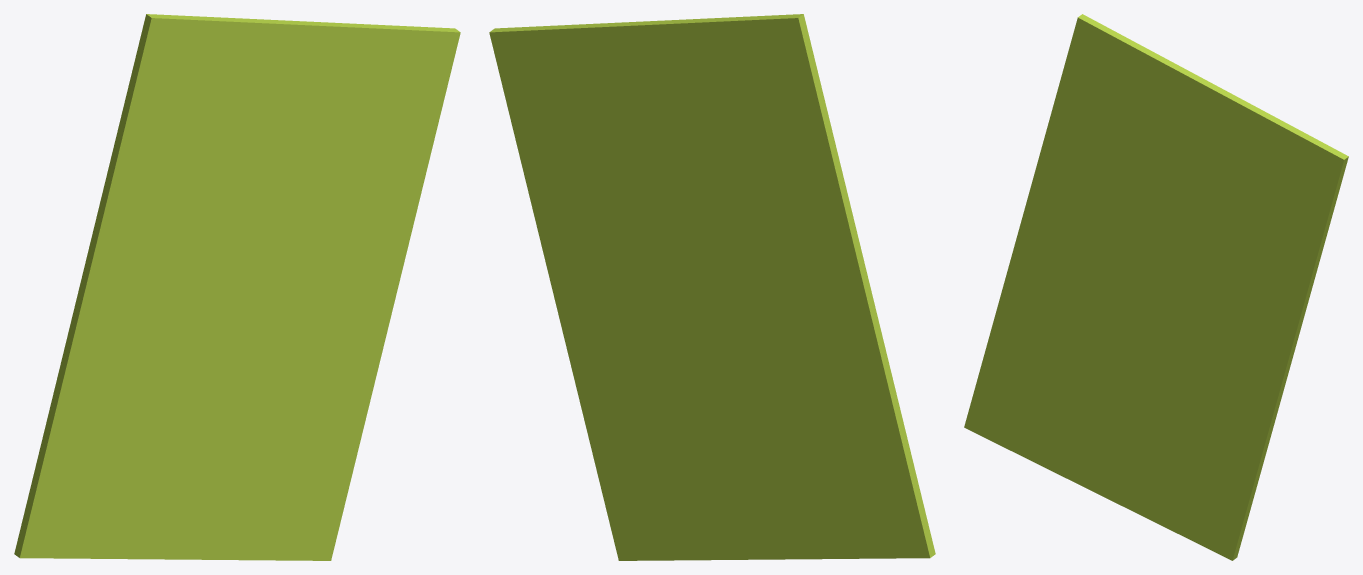
3 views of the same model, side by side, from view 1: azimuth 30°, elevation 25°; view 2: azimuth 150°, elevation 25°; view 3: azimuth 330°, elevation 25° (orthographic). The views are drawn at different scales.
Parts seen in each view (by area): view 1: osm-way27917482-F3; view 2: osm-way27917482-F3; view 3: osm-way27917482-F3.
Boxes of the visible parts, x1=… form: osm-way27917482-F3: x1=14, y1=14, x2=460, y2=560; osm-way27917482-F3: x1=489, y1=14, x2=935, y2=560; osm-way27917482-F3: x1=964, y1=14, x2=1348, y2=560.
Bounding box in the file's own units: 6.97 × 8.86 × 0.15.
